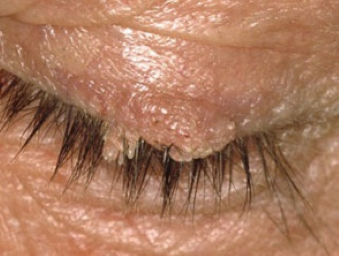seborrheic keratosis: (44, 60, 308, 197)
